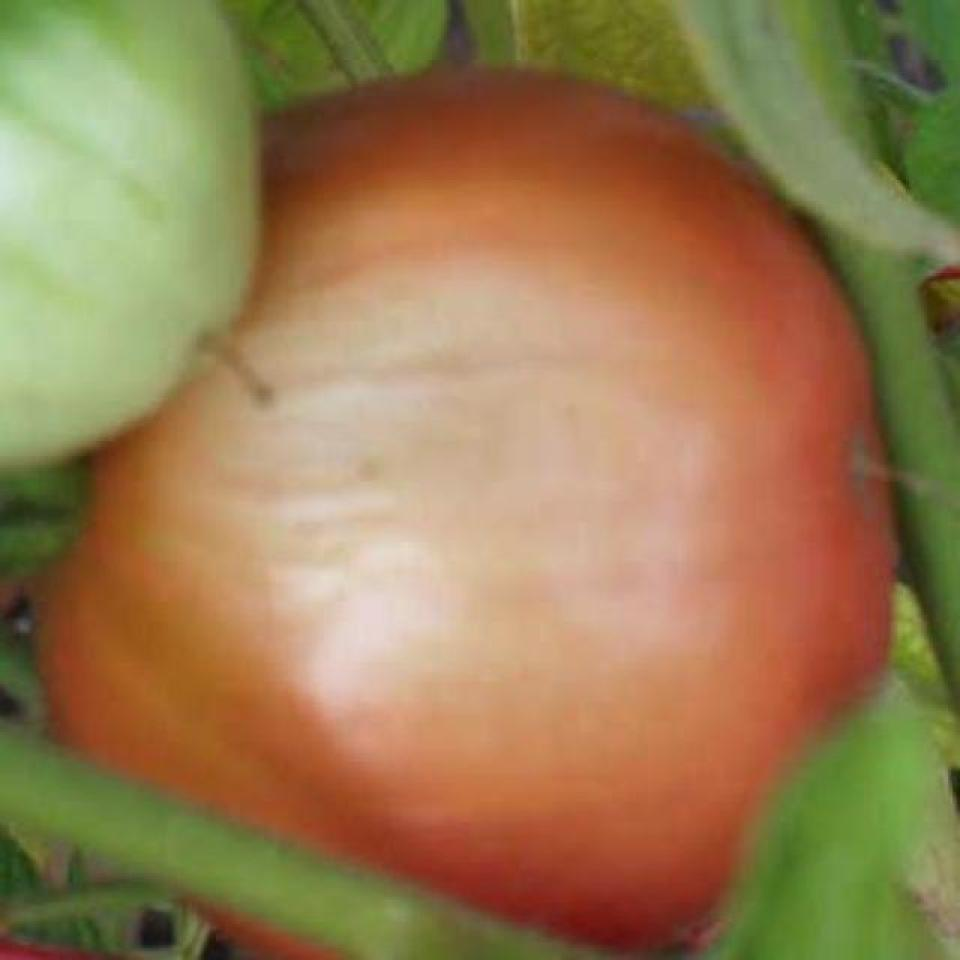Sunscald: (183, 179, 773, 796)
